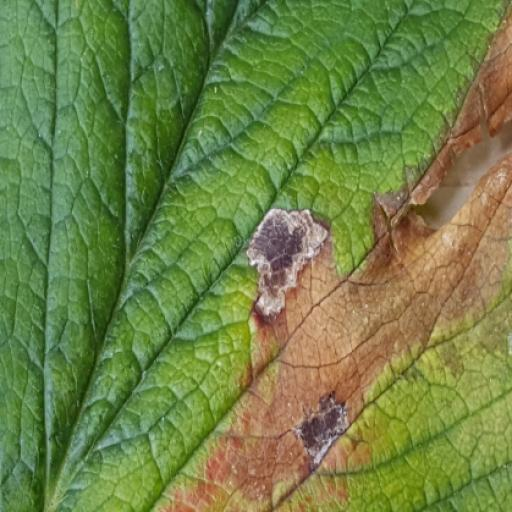Angular Leafspot: (148, 2, 511, 511)
